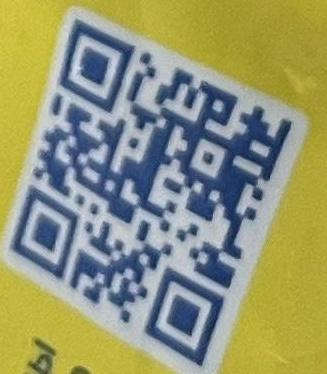qrcode: (12, 18, 293, 367)
